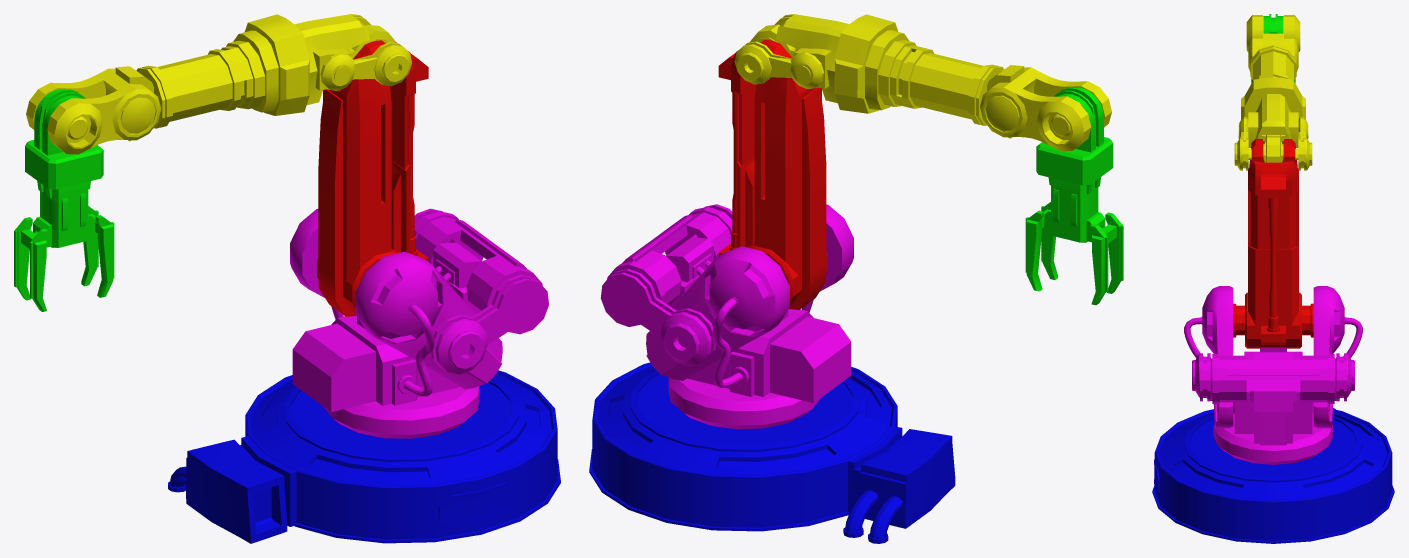
File: MachineArm.fbx
3 renders of one model, left to right at view 1: azimuth 30°, elevation 25°; view 2: azimuth 150°, elevation 25°; view 3: azimuth 270°, elevation 25°, orthographic. The views are drawn at different scales.
Parts seen in each view (by area): view 1: Body_low, BotArm, BotBase_low, BotJointShell_low, BotJoint_low, Side_low, MidBase_low, TopJointShell_low, MidArm_low, TopArm_low, Claw_low, MidJoint_low (+3 smaller); view 2: Body_low, BotArm, BotBase_low, BotJointShell_low, BotJoint_low, Side_low, MidBase_low, TopJointShell_low, MidArm_low, TopArm_low, Claw_low, MidJoint_low (+3 smaller); view 3: Body_low, BotArm, BotBase_low, BotJoint_low, BotJointShell_low, MidBase_low, MidJoint_low, TopJointShell_low, MidArm_low, PipeBot_low, TopJoint_low.
Part boxes in pixels (left/top/right/bottom): Body_low: left=245, top=370, right=560, bottom=543; BotArm: left=317, top=40, right=428, bottom=316; BotBase_low: left=292, top=239, right=481, bottom=438; BotJointShell_low: left=290, top=209, right=502, bottom=389; BotJoint_low: left=414, top=208, right=548, bottom=374; Side_low: left=186, top=436, right=296, bottom=543; MidBase_low: left=233, top=14, right=369, bottom=115; TopJointShell_low: left=26, top=66, right=161, bottom=154; MidArm_low: left=136, top=40, right=265, bottom=128; TopArm_low: left=25, top=140, right=103, bottom=247; Claw_low: left=14, top=206, right=114, bottom=311; MidJoint_low: left=320, top=14, right=411, bottom=90; Body_low: left=589, top=362, right=897, bottom=531; BotArm: left=718, top=39, right=827, bottom=309; BotBase_low: left=666, top=234, right=851, bottom=429; BotJointShell_low: left=646, top=204, right=853, bottom=380; BotJoint_low: left=600, top=204, right=732, bottom=366; Side_low: left=848, top=426, right=955, bottom=528; MidBase_low: left=776, top=14, right=909, bottom=113; TopJointShell_low: left=980, top=65, right=1111, bottom=151; MidArm_low: left=878, top=40, right=1003, bottom=125; TopArm_low: left=1036, top=137, right=1113, bottom=242; Claw_low: left=1025, top=202, right=1123, bottom=305; MidJoint_low: left=734, top=14, right=824, bottom=89; Body_low: left=1152, top=409, right=1394, bottom=543; BotArm: left=1233, top=139, right=1313, bottom=348; BotBase_low: left=1213, top=347, right=1333, bottom=464; BotJoint_low: left=1192, top=353, right=1354, bottom=403; BotJointShell_low: left=1202, top=286, right=1344, bottom=428; MidBase_low: left=1241, top=77, right=1305, bottom=147; MidJoint_low: left=1234, top=117, right=1312, bottom=170; TopJointShell_low: left=1246, top=15, right=1300, bottom=75; MidArm_low: left=1250, top=45, right=1296, bottom=80; PipeBot_low: left=1184, top=317, right=1362, bottom=400; TopJoint_low: left=1263, top=14, right=1283, bottom=33.
Bounding box in the file's own units: 393 × 350 × 211.
